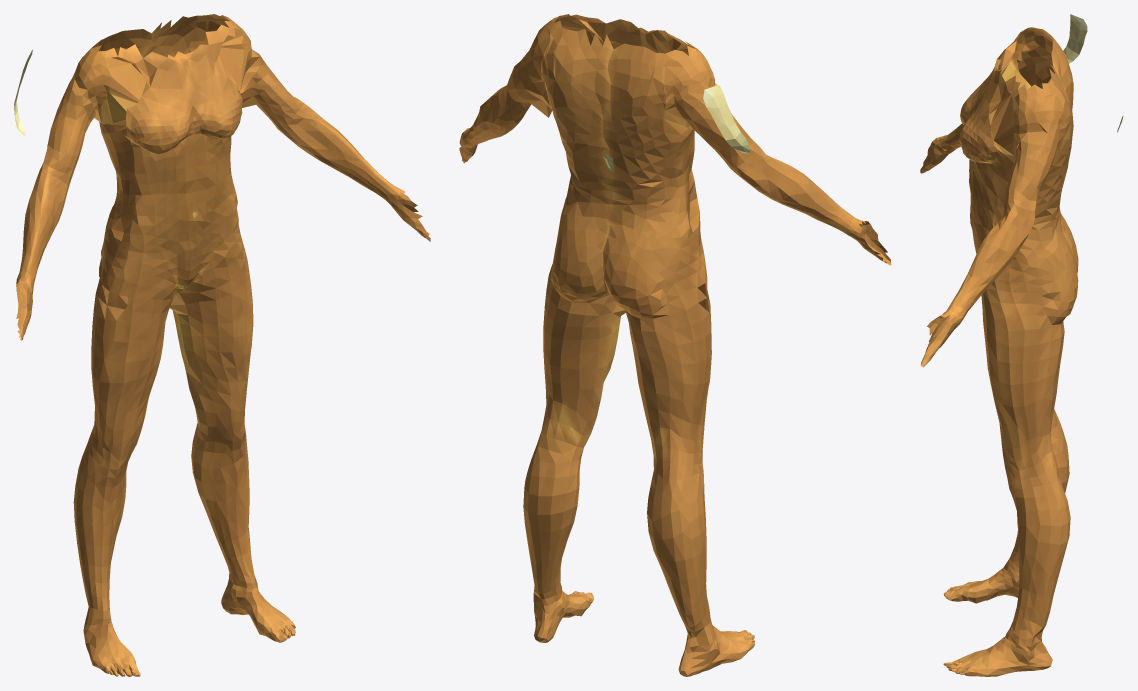
The model's file is ewm_t2orboflight_outfit.glb.
3 views of the same model, side by side, from view 1: azimuth 30°, elevation 25°; view 2: azimuth 150°, elevation 25°; view 3: azimuth 270°, elevation 25° (orthographic). The views are drawn at different scales.
Visible parts, largest first — view 1: ewm_t2orboflight_outfit; view 2: ewm_t2orboflight_outfit; view 3: ewm_t2orboflight_outfit.
Part boxes in pixels (left/top/right/bottom): ewm_t2orboflight_outfit: left=14, top=14, right=430, bottom=676; ewm_t2orboflight_outfit: left=459, top=14, right=891, bottom=676; ewm_t2orboflight_outfit: left=920, top=14, right=1123, bottom=676.
Size of the model in its own units: 1.13 by 1.58 by 0.5029.
Materials: 1 (1 with a texture image).
